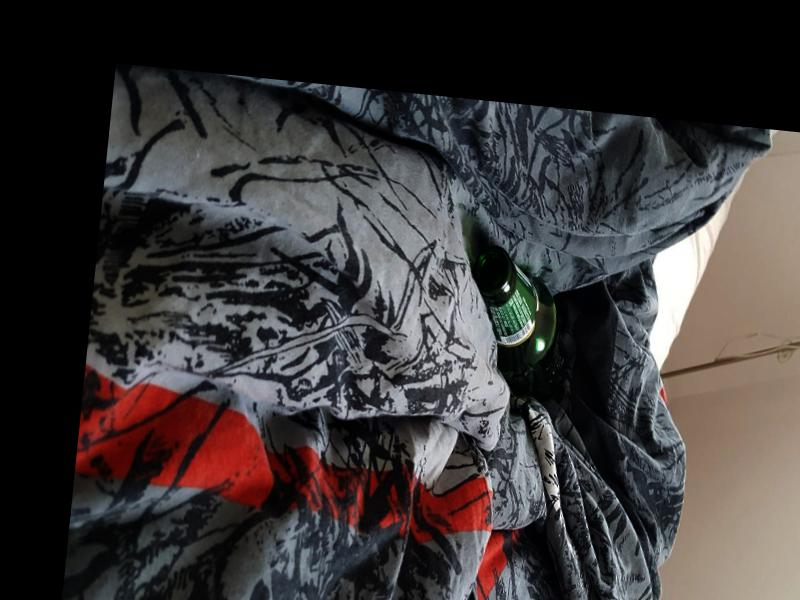Beer: (459, 242, 576, 406)
